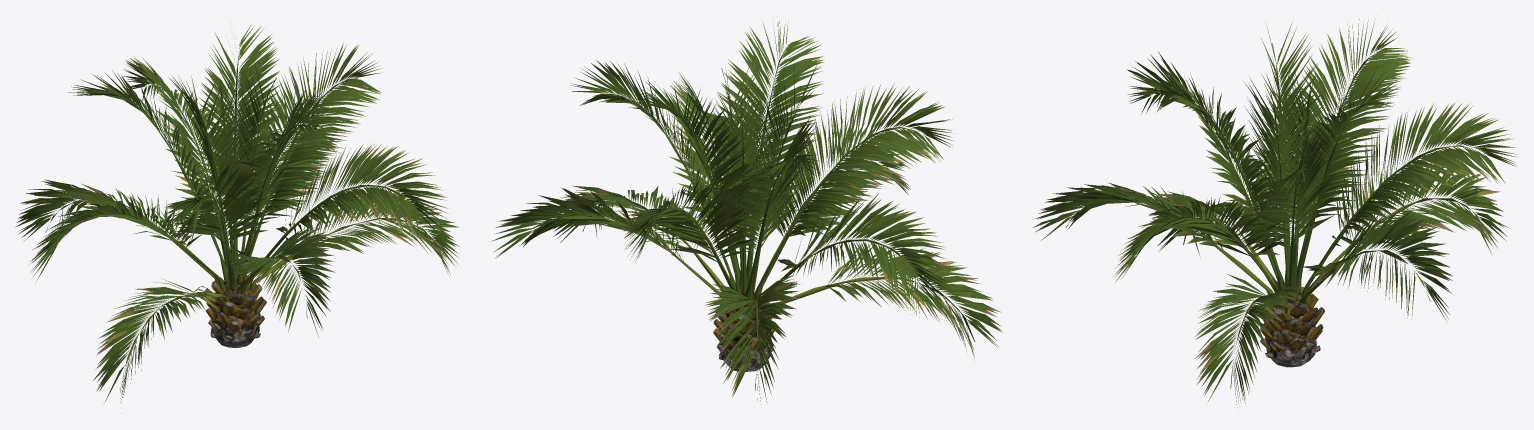
Rendered from canary31.glb.
3 renders of one model, left to right at view 1: azimuth 30°, elevation 25°; view 2: azimuth 150°, elevation 25°; view 3: azimuth 270°, elevation 25°, orthographic. The views are drawn at different scales.
Visible parts, largest first — view 1: Phoenix_canariensis_HD; view 2: Phoenix_canariensis_HD; view 3: Phoenix_canariensis_HD.
Part boxes in pixels (x1=…): Phoenix_canariensis_HD: x1=15, y1=24, x2=459, y2=403; Phoenix_canariensis_HD: x1=491, y1=16, x2=1002, y2=404; Phoenix_canariensis_HD: x1=1033, y1=19, x2=1517, y2=407.
Bounding box in the file's own units: 3.12 × 2.13 × 2.98.
15 materials, 15 textured.
